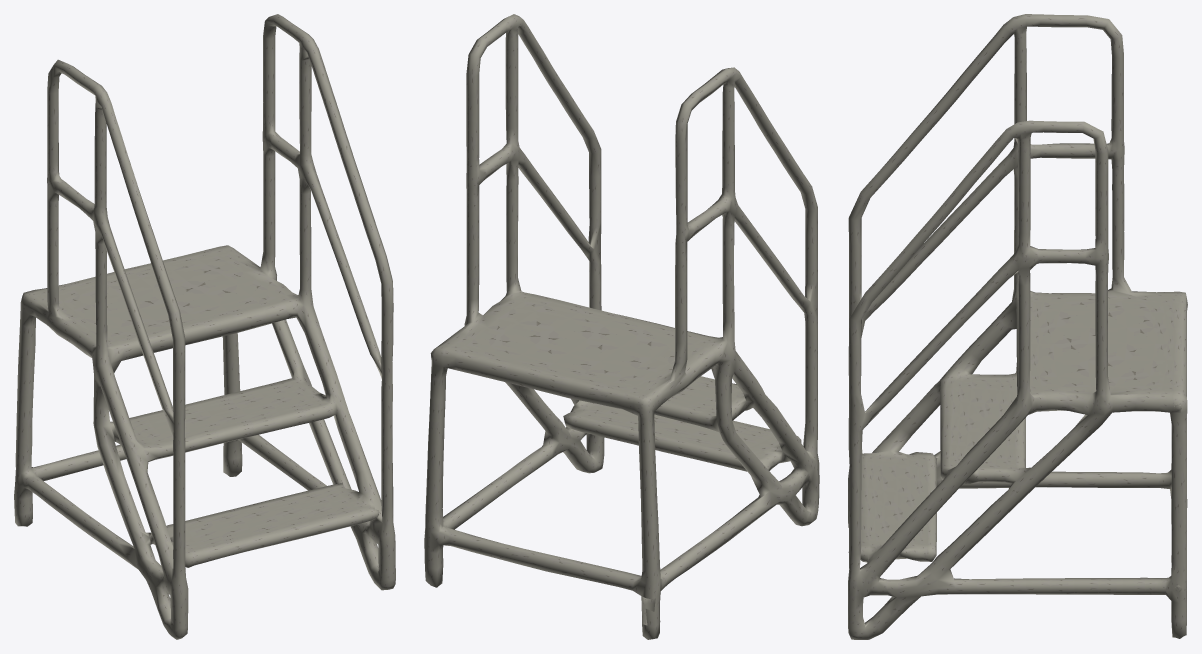
The model's file is industrial+stair.fbx.
The picture shows the model from 3 angles, left to right: view 1: azimuth 30°, elevation 25°; view 2: azimuth 150°, elevation 25°; view 3: azimuth 270°, elevation 25°; orthographic projection. The views are drawn at different scales.
Visible parts, largest first — view 1: tripo_node_bcaed021; view 2: tripo_node_bcaed021; view 3: tripo_node_bcaed021.
Boxes of the visible parts, x1,y1,x2,y2 form: tripo_node_bcaed021: [14, 14, 395, 639]; tripo_node_bcaed021: [424, 14, 819, 639]; tripo_node_bcaed021: [848, 14, 1187, 639].
Bounding box in the file's own units: 0.4629 × 0.9794 × 0.5827.
